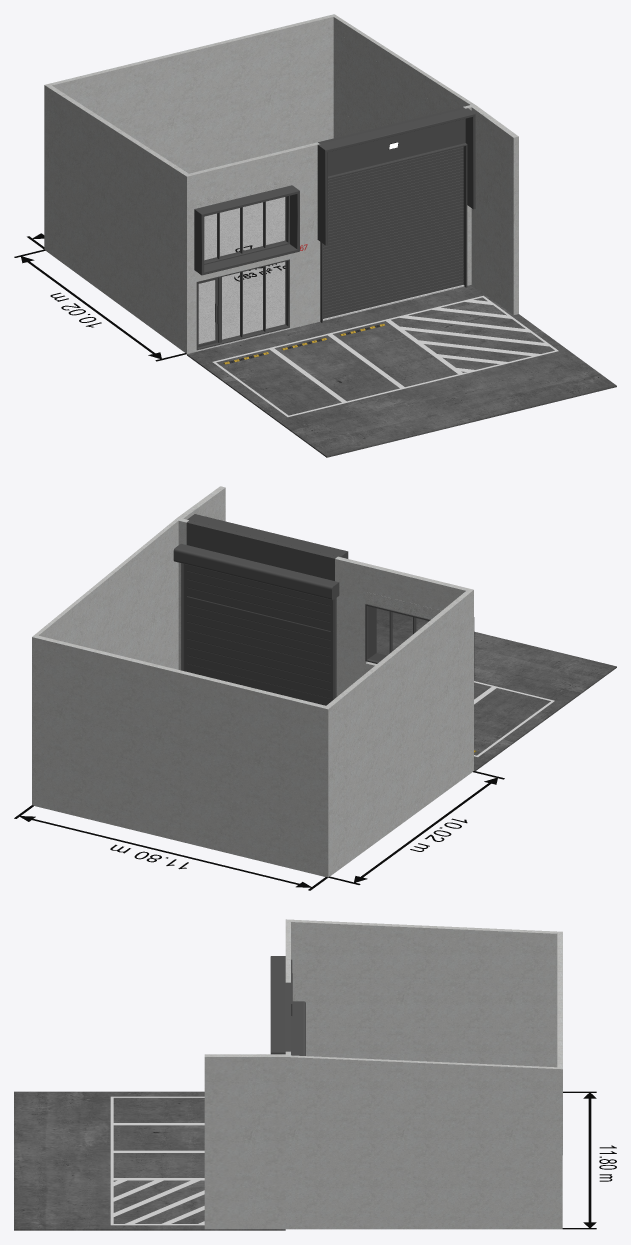
Rendered from Without_Mezzanine.glb.
3 renders of one model, top to bottom at view 1: azimuth 30°, elevation 25°; view 2: azimuth 150°, elevation 25°; view 3: azimuth 270°, elevation 25°, orthographic. The views are drawn at different scales.
Visible parts, largest first — view 1: Box2131647078.002, Object1746168729.003, Object1746169086.004, Shape001.004, Shape017.004, Component#42 [14327]011.004, Shape003.002, Component#120 [25525]101.004, Object1834019085.003, Object1746169062.004, Object1746169090.004, Object1746169088.004 (+13 smaller); view 2: Object1746169086.004, Object1746169090.004, Group011.003, Shape001.004, Shape017.004, Box2131647078.002, Object1746169062.004, Component#120 [25525]101.004, Object1746169088.004, Shape018.004, Object1746169063.004, Rectangle002.004 (+9 smaller); view 3: Box2131647078.002, Object1746169061.004, Object1746169062.004, Shape017.004, Object1834019085.003, Shape001.004, Shape018.004, Object1746169063.004, Layer:023.002, Component#120 [25525]101.004, Object1746169088.004, Group011.003 (+8 smaller).
Part boxes in pixels (<box>): Box2131647078.002: <box>187,284,616,457</box>; Object1746168729.003: <box>323,146,463,318</box>; Object1746169086.004: <box>67,30,333,149</box>; Shape001.004: <box>44,174,196,353</box>; Shape017.004: <box>44,98,196,277</box>; Component#42 [14327]011.004: <box>196,196,289,350</box>; Shape003.002: <box>196,197,464,351</box>; Component#120 [25525]101.004: <box>317,107,475,322</box>; Object1834019085.003: <box>471,106,518,315</box>; Object1746169062.004: <box>333,30,444,129</box>; Object1746169090.004: <box>152,106,333,173</box>; Object1746169088.004: <box>49,14,336,94</box>; Object1746169086.004: <box>32,650,323,798</box>; Object1746169090.004: <box>32,728,323,876</box>; Group011.003: <box>173,543,339,705</box>; Shape001.004: <box>323,693,473,877</box>; Shape017.004: <box>323,616,473,799</box>; Box2131647078.002: <box>376,608,616,770</box>; Object1746169062.004: <box>52,550,178,658</box>; Component#120 [25525]101.004: <box>186,514,348,580</box>; Object1746169088.004: <box>32,635,325,720</box>; Shape018.004: <box>323,587,473,722</box>; Object1746169063.004: <box>35,520,178,638</box>; Rectangle002.004: <box>366,564,463,610</box>; Box2131647078.002: <box>14,1091,285,1230</box>; Object1746169061.004: <box>291,1155,557,1229</box>; Object1746169062.004: <box>291,1081,557,1155</box>; Shape017.004: <box>291,946,557,1020</box>; Object1834019085.003: <box>204,1054,285,1229</box>; Shape001.004: <box>306,1020,557,1067</box>; Shape018.004: <box>285,919,562,946</box>; Object1746169063.004: <box>291,1055,557,1081</box>; Layer:023.002: <box>110,1179,204,1225</box>; Component#120 [25525]101.004: <box>270,981,292,1055</box>; Object1746169088.004: <box>557,934,562,1081</box>; Group011.003: <box>292,1001,305,1055</box>.
Bounding box in the file's own units: 13.93 × 7.05 × 22.19.
Materials: 15 (4 with a texture image).
